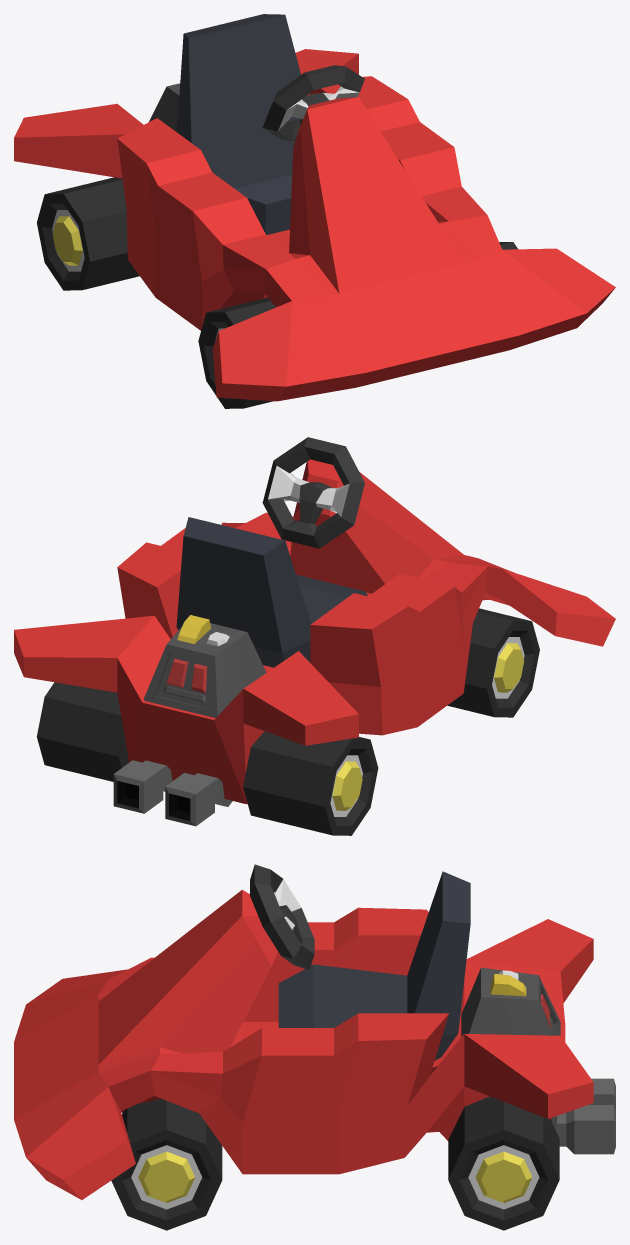
Rendered from RegularKart.fbx.
The picture shows the model from 3 angles, top to bottom: view 1: azimuth 30°, elevation 25°; view 2: azimuth 150°, elevation 25°; view 3: azimuth 270°, elevation 25°; orthographic projection. The views are drawn at different scales.
Visible parts, largest first — view 1: Body, Seat, Back Right Wheel, Steering Wheel, Front Right Wheel, Engine; view 2: Body, Seat, Back Right Wheel, Engine, Steering Wheel, Back Left Wheel, Front Right Wheel, Right Exhaust, Left Exhaust; view 3: Body, Seat, Back Left Wheel, Front Left Wheel, Engine, Steering Wheel, Left Exhaust, Right Exhaust.
Part boxes in pixels (box(x1,y1,x2,y2)): Body: box(14, 49, 615, 401); Seat: box(177, 14, 300, 234); Back Right Wheel: box(37, 177, 139, 290); Steering Wheel: box(262, 65, 364, 141); Front Right Wheel: box(198, 297, 275, 408); Engine: box(149, 83, 180, 131); Body: box(14, 459, 615, 804); Seat: box(176, 517, 367, 667); Back Right Wheel: box(243, 731, 378, 835); Engine: box(143, 615, 266, 717); Steering Wheel: box(262, 437, 364, 548); Back Left Wheel: box(36, 682, 128, 781); Front Right Wheel: box(447, 608, 539, 717); Right Exhaust: box(165, 773, 232, 826); Left Exhaust: box(113, 760, 172, 813); Body: box(14, 890, 593, 1199); Seat: box(278, 871, 470, 1060); Back Left Wheel: box(448, 1096, 559, 1230); Front Left Wheel: box(111, 1098, 222, 1230); Engine: box(461, 967, 560, 1036); Steering Wheel: box(250, 864, 314, 970); Left Exhaust: box(551, 1105, 615, 1154); Right Exhaust: box(589, 1078, 615, 1111).
Bounding box in the file's own units: 346 × 228 × 439.
